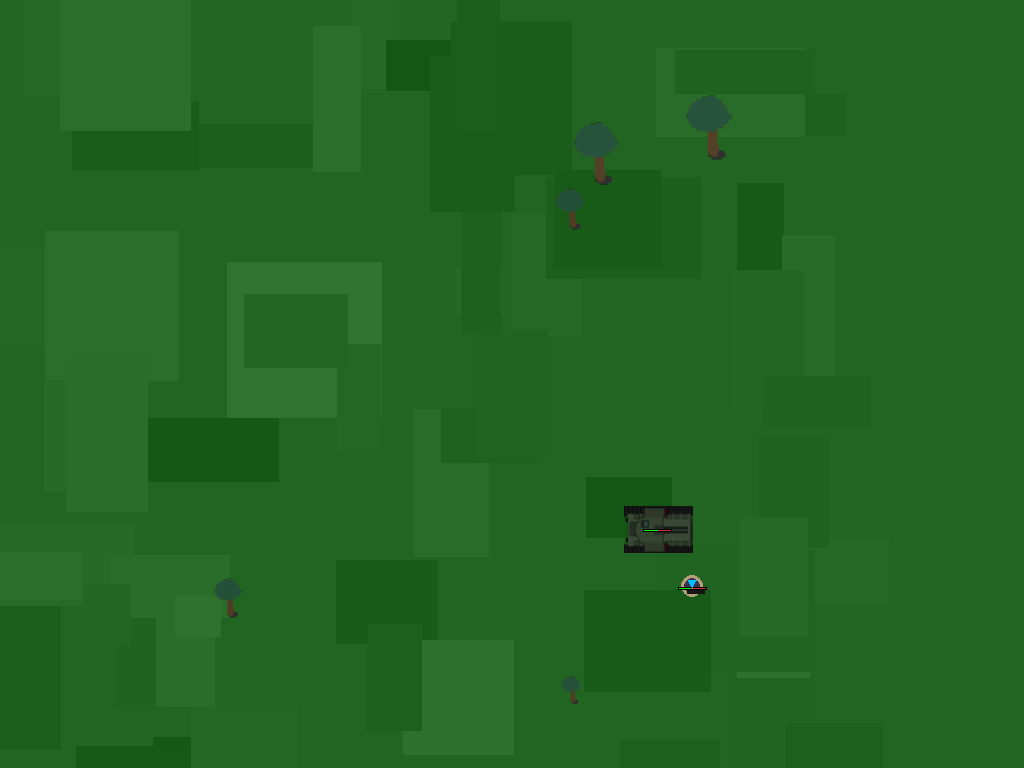M1A2_chn: (673, 567, 710, 604)
Mi24: (630, 501, 685, 556)
